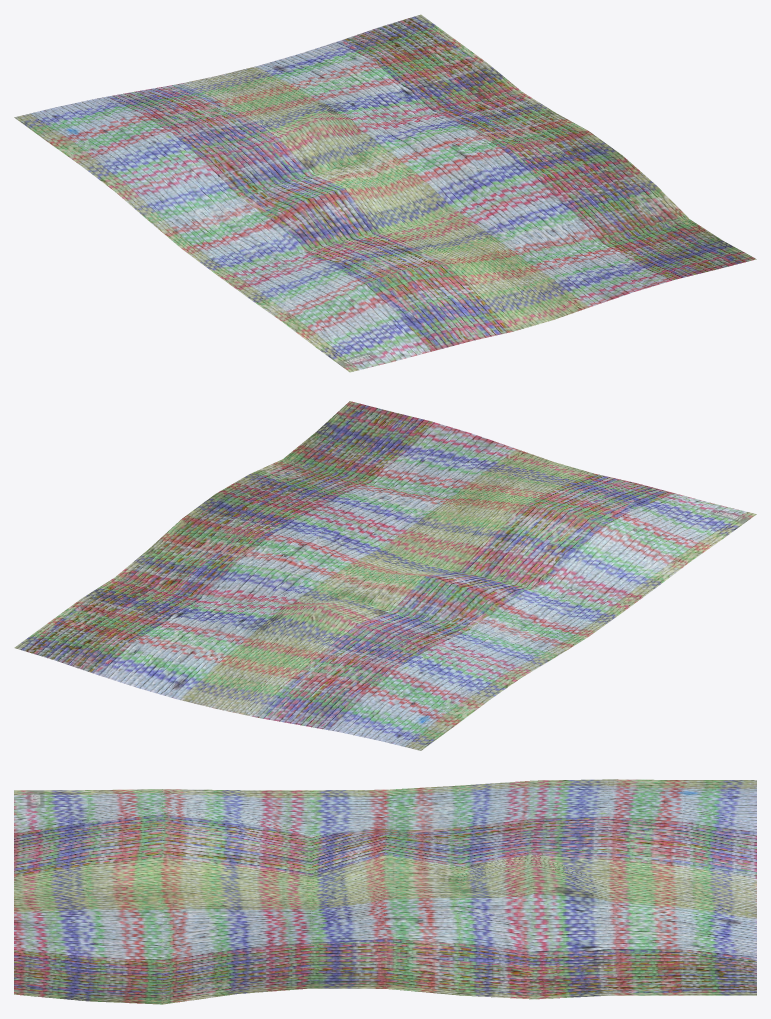
Rendered from alfombra.fbx.
3 views of the same model, one above another, from view 1: azimuth 30°, elevation 25°; view 2: azimuth 150°, elevation 25°; view 3: azimuth 270°, elevation 25° (orthographic). The views are drawn at different scales.
Visible parts, largest first — view 1: pPlane1; view 2: pPlane1; view 3: pPlane1.
Boxes of the visible parts, left/top/right/bottom form: pPlane1: left=14, top=14, right=756, bottom=372; pPlane1: left=14, top=401, right=756, bottom=750; pPlane1: left=14, top=779, right=756, bottom=1004.
Size of the model in its own units: 0.4649 by 0.034 by 0.6645.
Materials: 1 (1 with a texture image).
